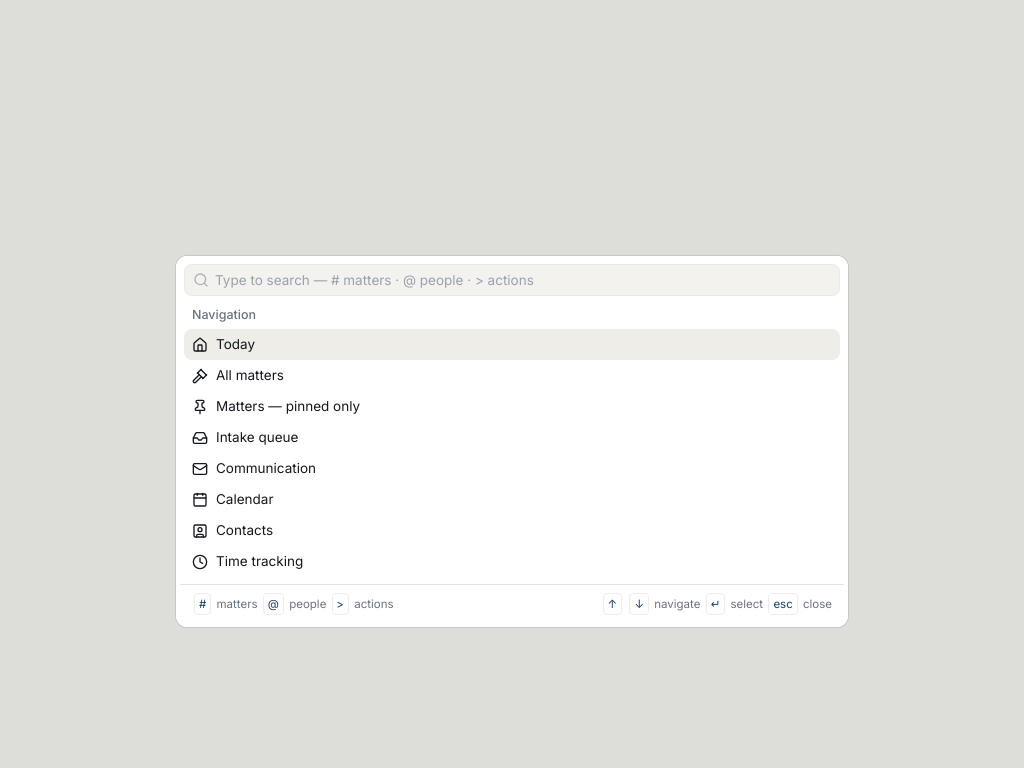
Test case: CommandPalette — 'Search everywhere' row › coexists with jump-to matches instead of replacing them
Type "ambulance" into the dropdown with placeholder "Type to search — # matters · @ people · > actions". click: [524, 280]
box: 209,270 -> 839,290
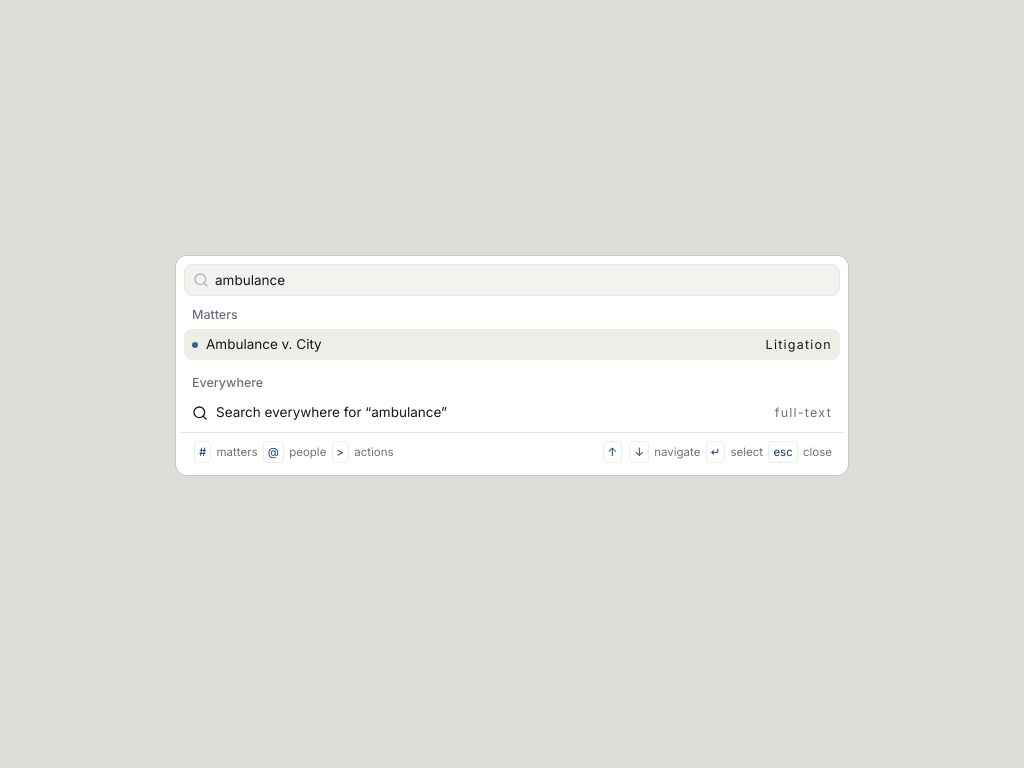
Expected: the text "Ambulance v. City" is shown, 206,336 -> 322,352
Expected: the text "Search everywhere for “ambulance”" is shown, 216,403 -> 447,422
